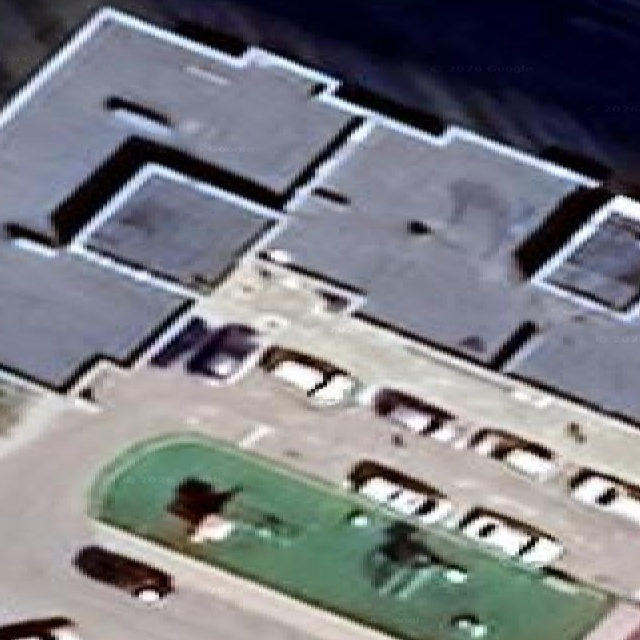car: (150, 316, 259, 380), (348, 460, 452, 524), (460, 510, 562, 566), (261, 346, 359, 404), (74, 546, 172, 602), (167, 476, 240, 542), (468, 428, 557, 479), (372, 387, 455, 440), (359, 476, 451, 523), (187, 324, 259, 380), (571, 470, 639, 524), (167, 476, 240, 524), (151, 316, 211, 367), (0, 615, 80, 639)
